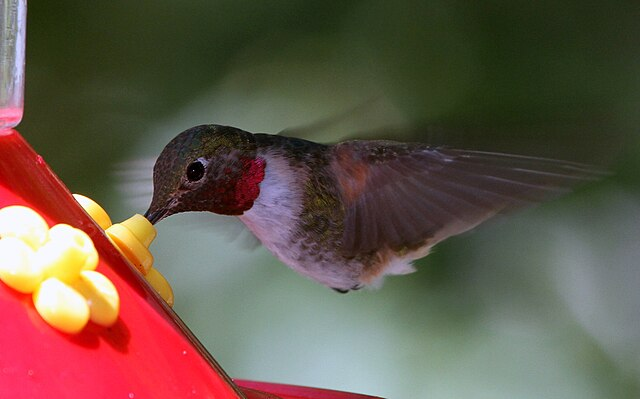selasphorus platycercus: (122, 123, 627, 288)
